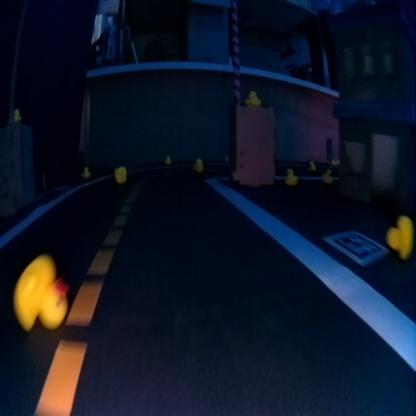Duckie: (13, 255, 66, 328), (387, 215, 413, 258), (283, 167, 297, 185), (244, 89, 260, 104), (114, 166, 126, 182), (321, 168, 333, 183), (193, 157, 203, 171), (81, 165, 90, 177), (12, 108, 20, 119), (308, 159, 315, 170), (163, 154, 170, 164), (224, 152, 230, 160), (331, 158, 336, 166), (335, 158, 340, 166)
QR code: (322, 231, 388, 264)
